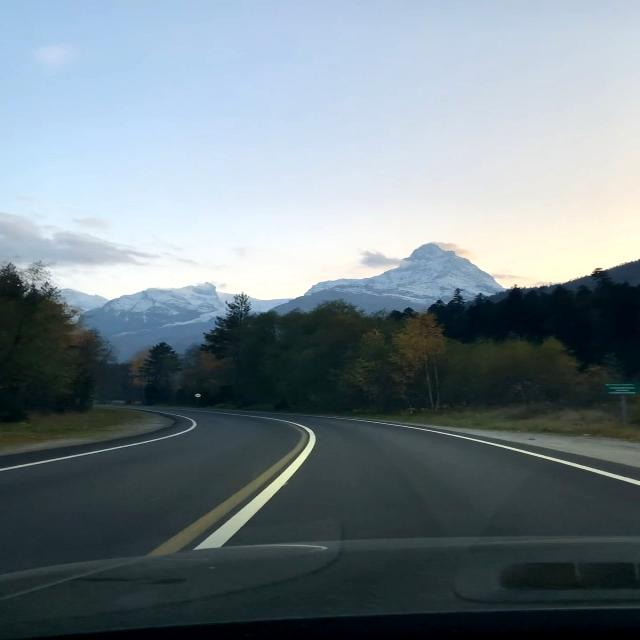lane: (147, 431, 309, 556), (338, 418, 640, 485), (196, 421, 316, 549), (0, 411, 198, 471)
road: (3, 408, 638, 640)
